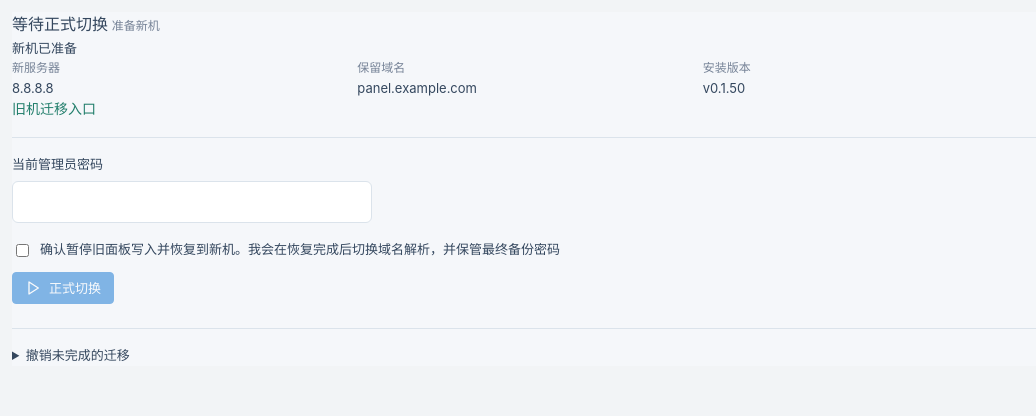
automatic panel migration › requires formal cutover confirmation and sends administrator verification
The image size is (1036, 416).
Type "isolated-admin" into the password field labelled "当前管理员密码".
click(192, 202); type("isolated-admin")  # box [12, 181, 372, 223]
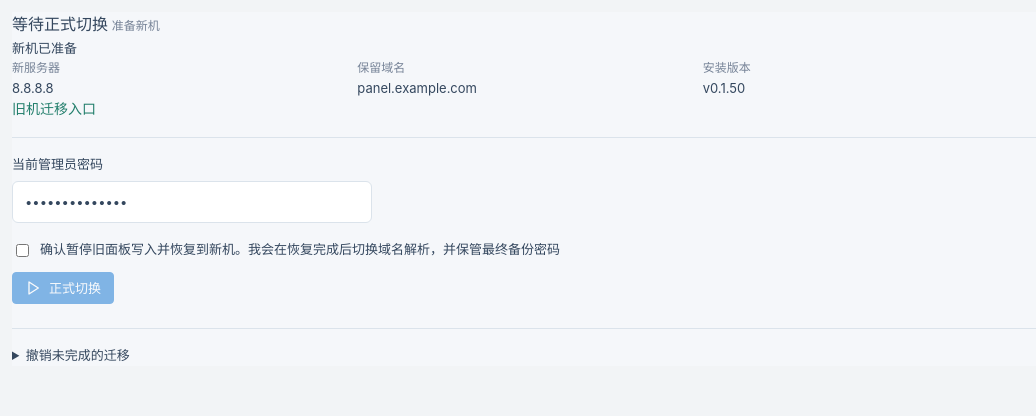
Submit the form, box [12, 156, 560, 304]
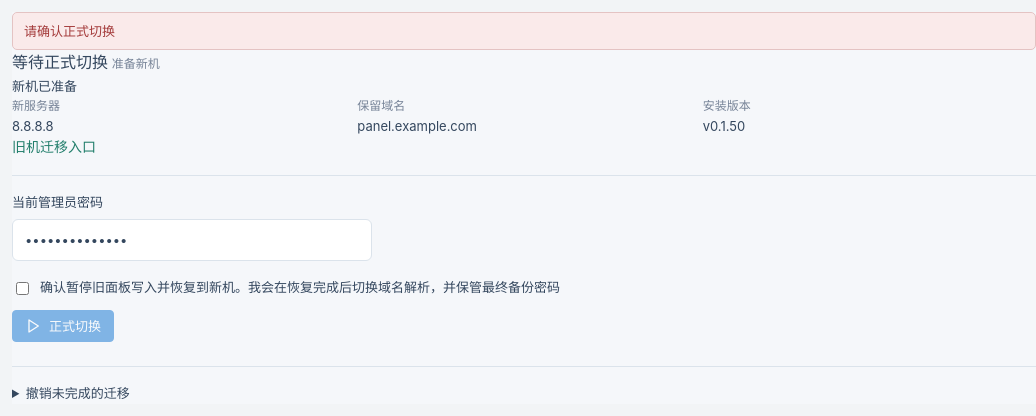
Click the checkbox labelled "确认暂停旧面板写入并恢复到新机。我会在恢复完成后切换域名解析，并保管最终备份密码".
click(22, 289)  # box [16, 282, 29, 295]
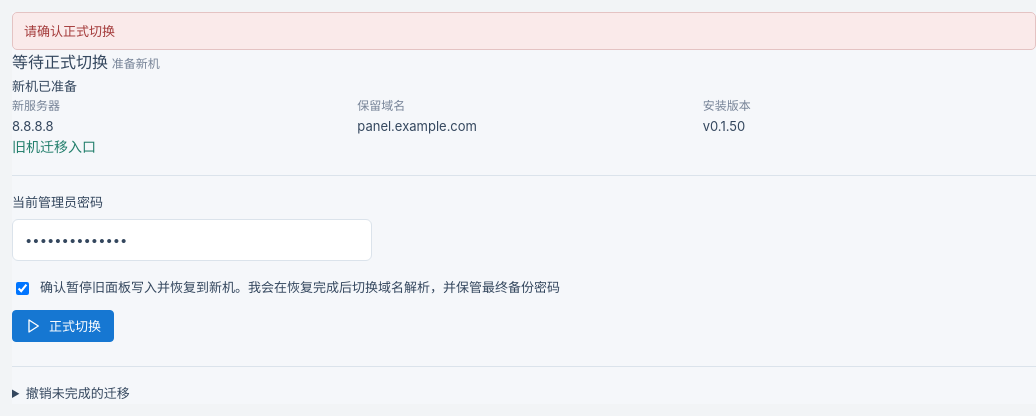
Submit the form, box [12, 194, 560, 342]
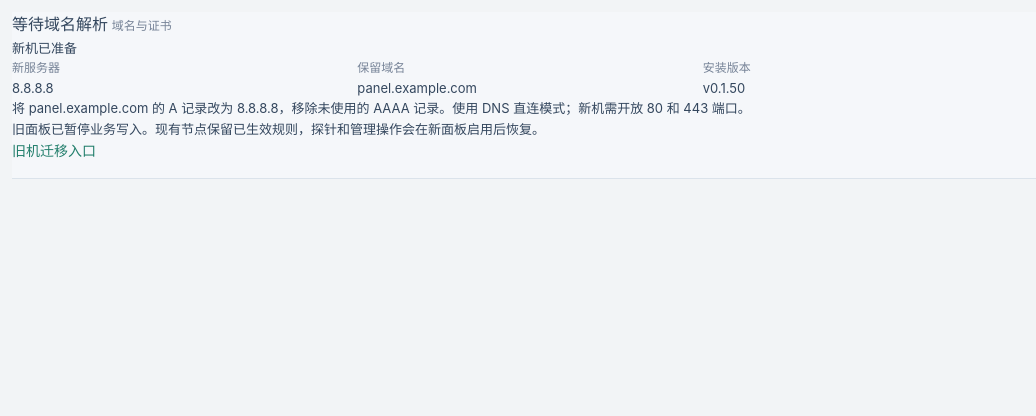
expect the text "A 记录改为 8.8.8.8" is shown: met, box [12, 100, 751, 116]
